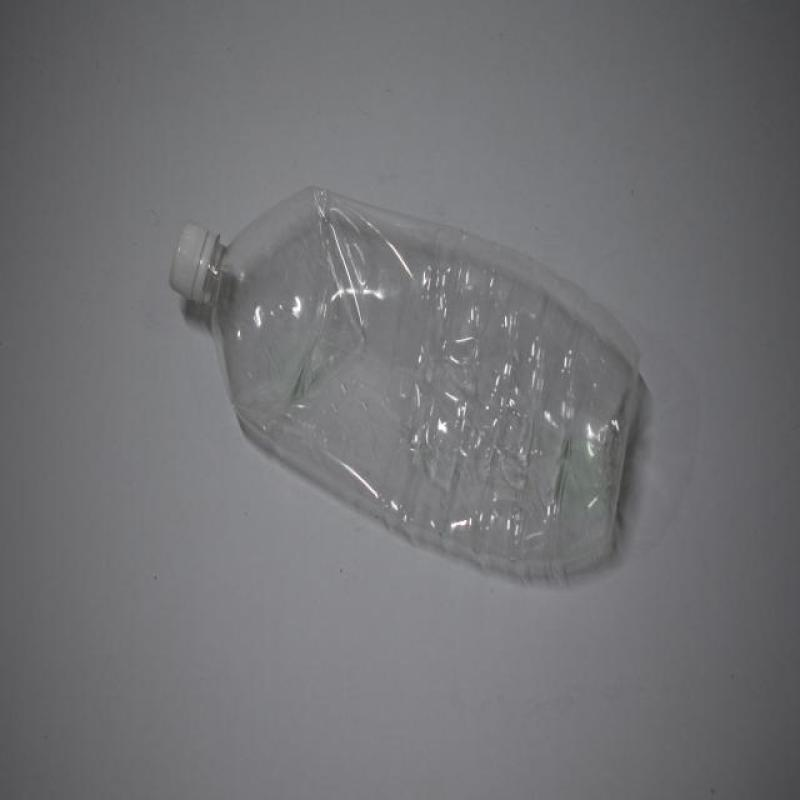botella: (167, 187, 644, 591)
